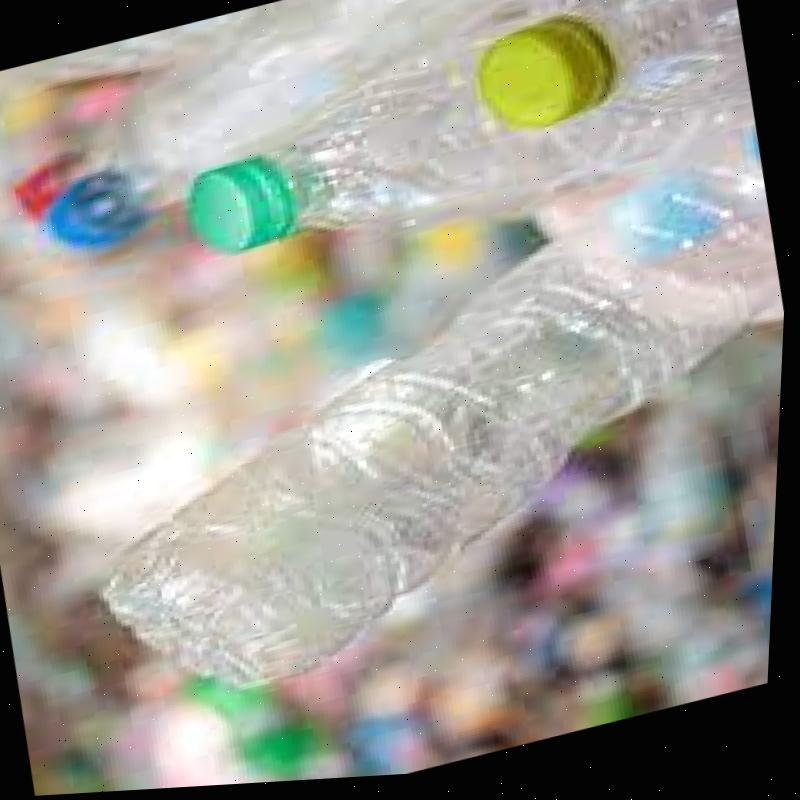botella: (42, 141, 794, 726), (5, 0, 590, 292), (154, 0, 665, 286), (444, 0, 757, 173)
